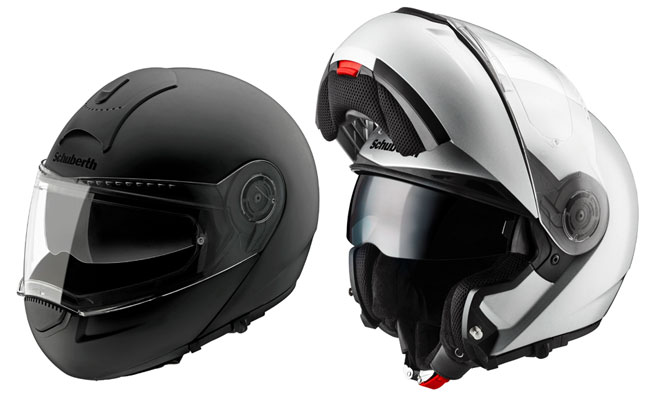helmet: (15, 61, 301, 382)
